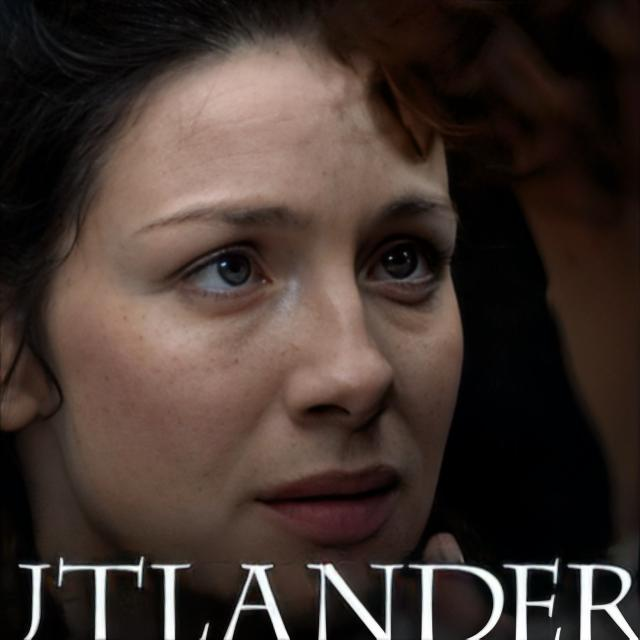sad: (64, 29, 468, 628)
